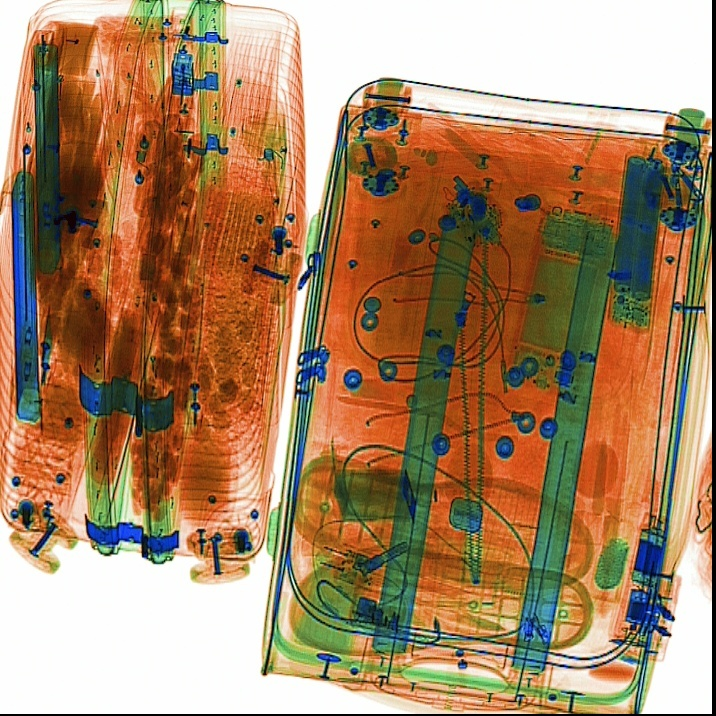powerbank: (601, 149, 670, 331)
